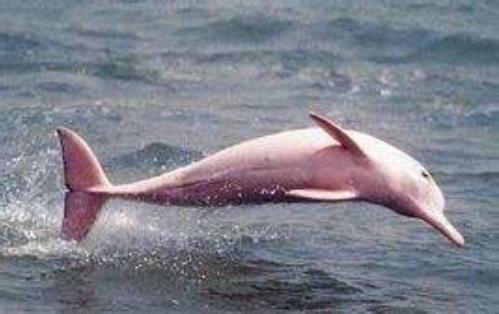fish: (52, 107, 473, 249)
